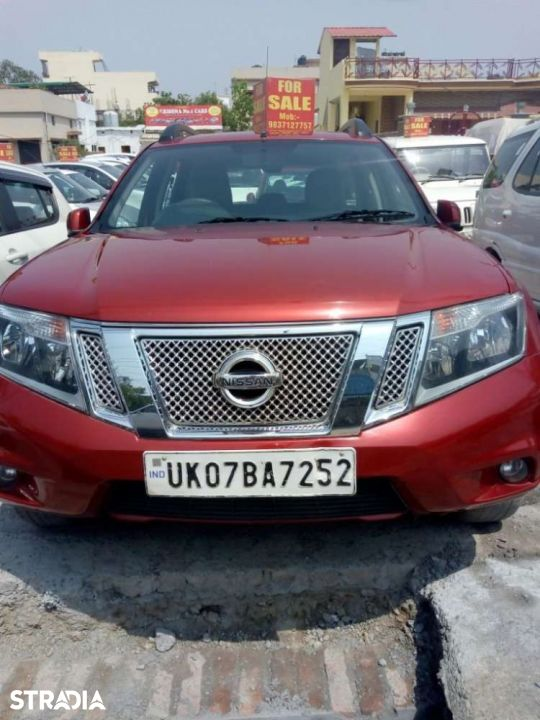number_plate: (139, 440, 358, 503)
